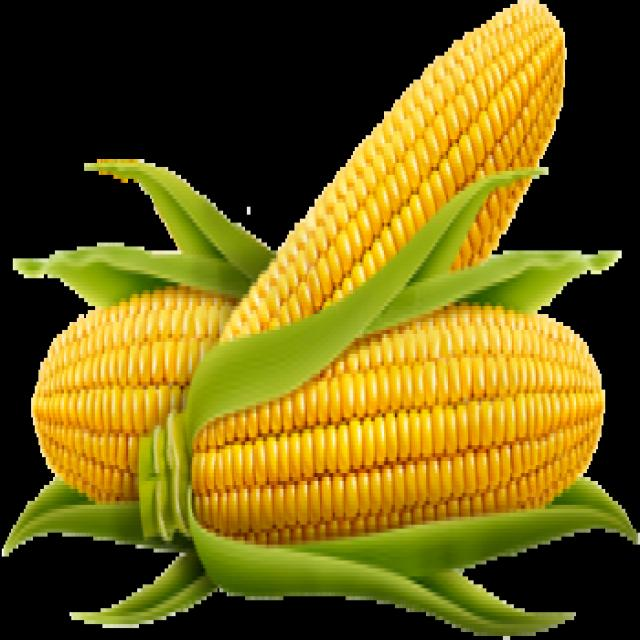corn: (187, 294, 612, 585), (212, 16, 566, 352), (27, 292, 231, 514)
